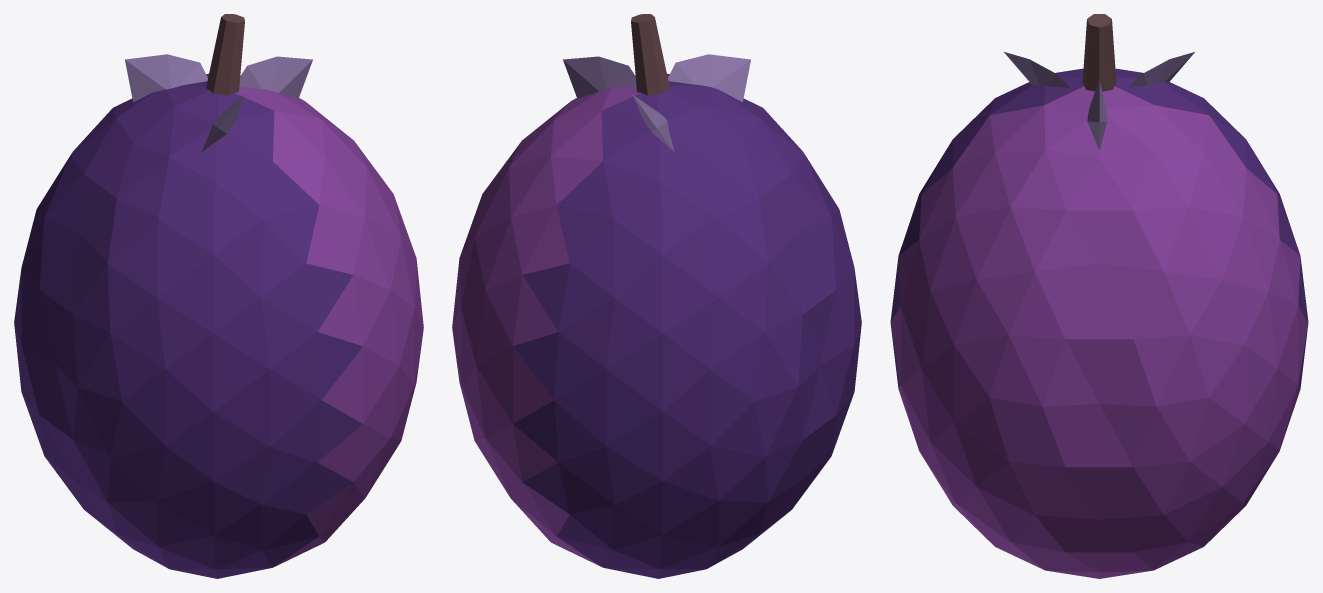
The model's file is RoyalPlumFruit.glb.
3 views of the same model, side by side, from view 1: azimuth 30°, elevation 25°; view 2: azimuth 150°, elevation 25°; view 3: azimuth 270°, elevation 25° (orthographic).
Parts seen in each view (by area): view 1: RoyalPlumFruit_RoyalPlumSkin, RoyalPlumFruit_RoyalPlumBlush, RoyalPlumFruit_RoyalPlumSepals, RoyalPlumFruit_RoyalPlumStem; view 2: RoyalPlumFruit_RoyalPlumSkin, RoyalPlumFruit_RoyalPlumBlush, RoyalPlumFruit_RoyalPlumSepals, RoyalPlumFruit_RoyalPlumStem; view 3: RoyalPlumFruit_RoyalPlumBlush, RoyalPlumFruit_RoyalPlumSkin, RoyalPlumFruit_RoyalPlumSepals, RoyalPlumFruit_RoyalPlumStem.
Part boxes in pixels (left/top/right/bottom): RoyalPlumFruit_RoyalPlumSkin: left=14, top=73, right=362, bottom=578; RoyalPlumFruit_RoyalPlumBlush: left=235, top=75, right=423, bottom=566; RoyalPlumFruit_RoyalPlumSepals: left=125, top=54, right=312, bottom=151; RoyalPlumFruit_RoyalPlumStem: left=206, top=14, right=244, bottom=95; RoyalPlumFruit_RoyalPlumSkin: left=513, top=73, right=861, bottom=578; RoyalPlumFruit_RoyalPlumBlush: left=452, top=75, right=640, bottom=566; RoyalPlumFruit_RoyalPlumSepals: left=563, top=54, right=750, bottom=151; RoyalPlumFruit_RoyalPlumStem: left=631, top=14, right=669, bottom=95; RoyalPlumFruit_RoyalPlumBlush: left=890, top=86, right=1308, bottom=578; RoyalPlumFruit_RoyalPlumSkin: left=890, top=68, right=1308, bottom=388; RoyalPlumFruit_RoyalPlumSepals: left=1004, top=52, right=1194, bottom=150; RoyalPlumFruit_RoyalPlumStem: left=1082, top=14, right=1116, bottom=91.
Size of the model in its own units: 0.9345 by 1.43 by 0.98.
